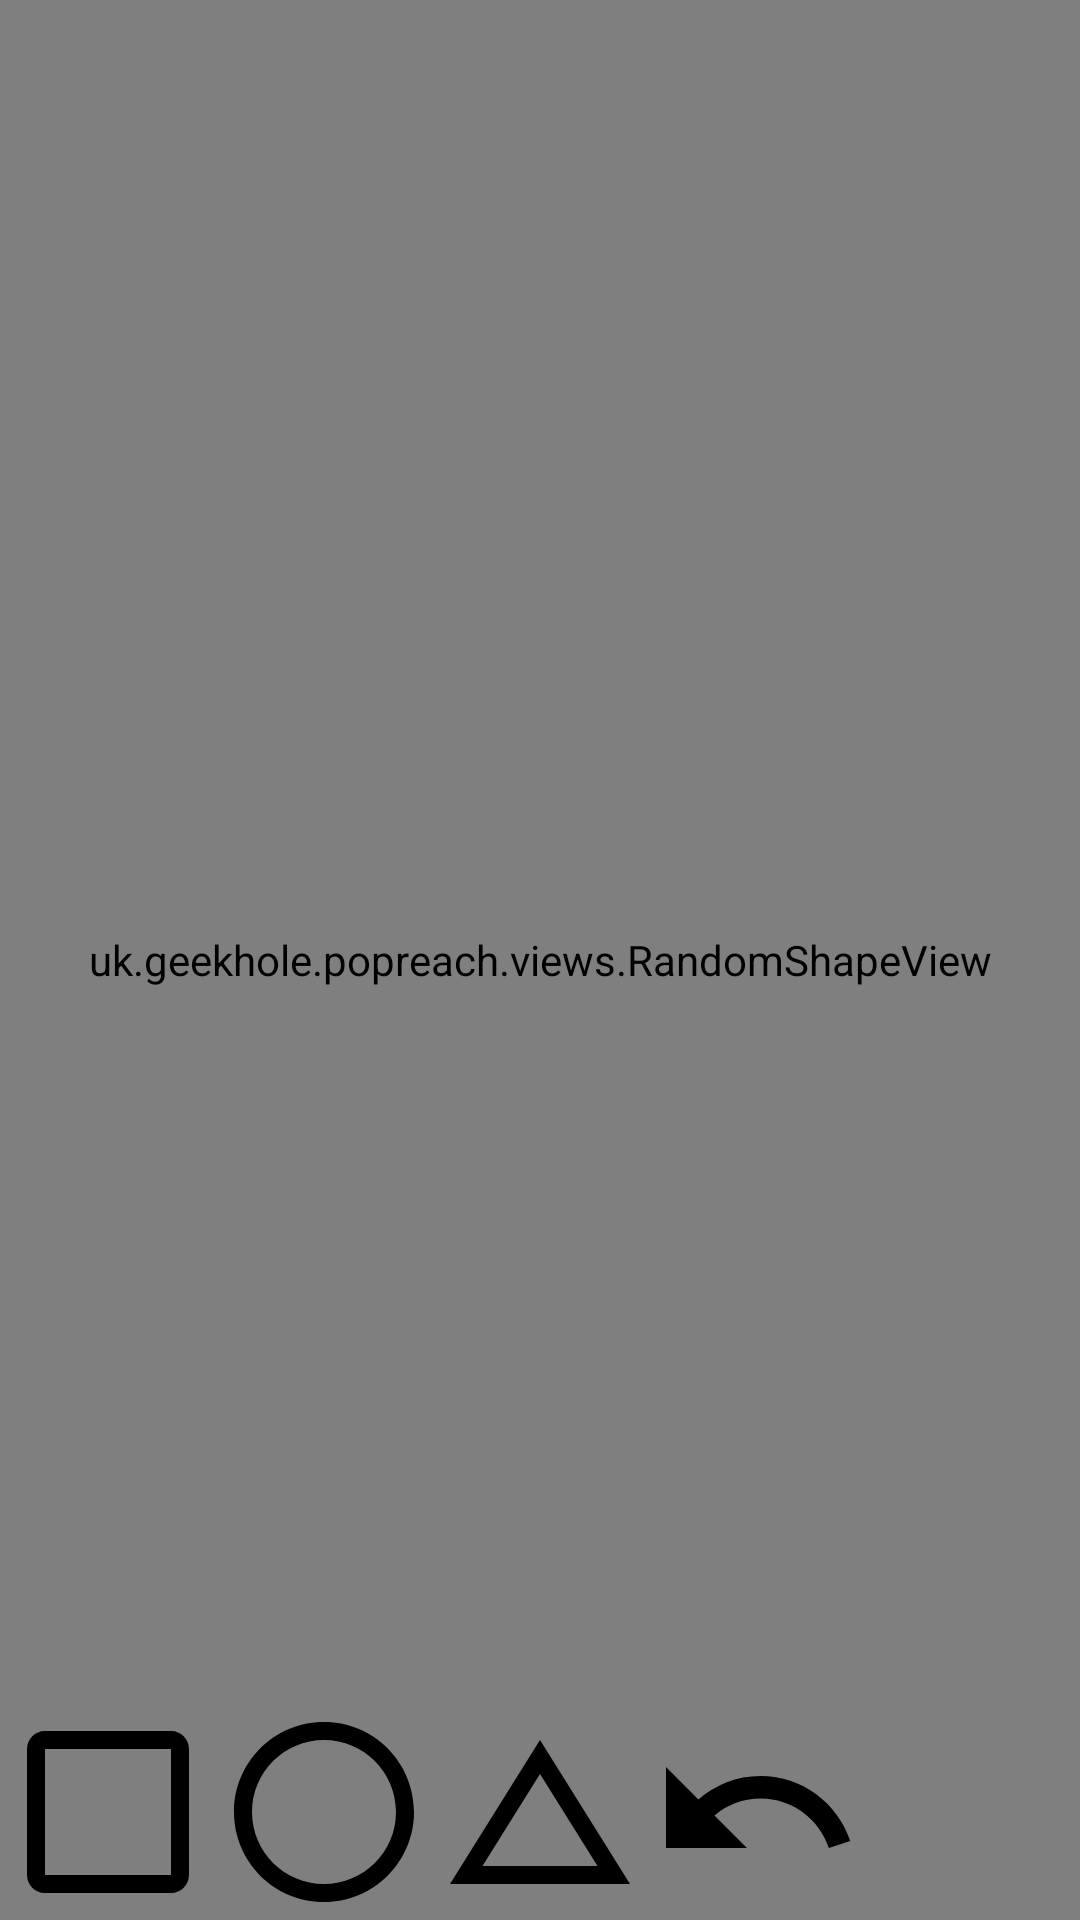

Icon bounding boxes for this 1080 × 1920 phone screenshot, format (x1, y1, x2, y2):
square: (27, 1731, 189, 1893)
triangle: (450, 1740, 630, 1884)
undo: (666, 1767, 850, 1848)
